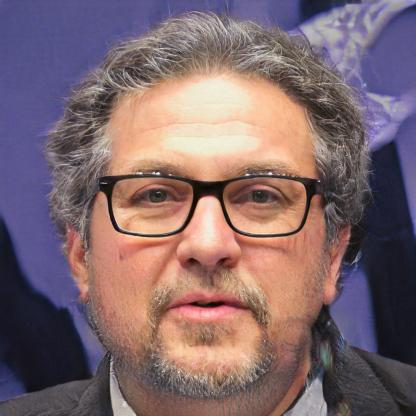glasses: (96, 166, 319, 245)
